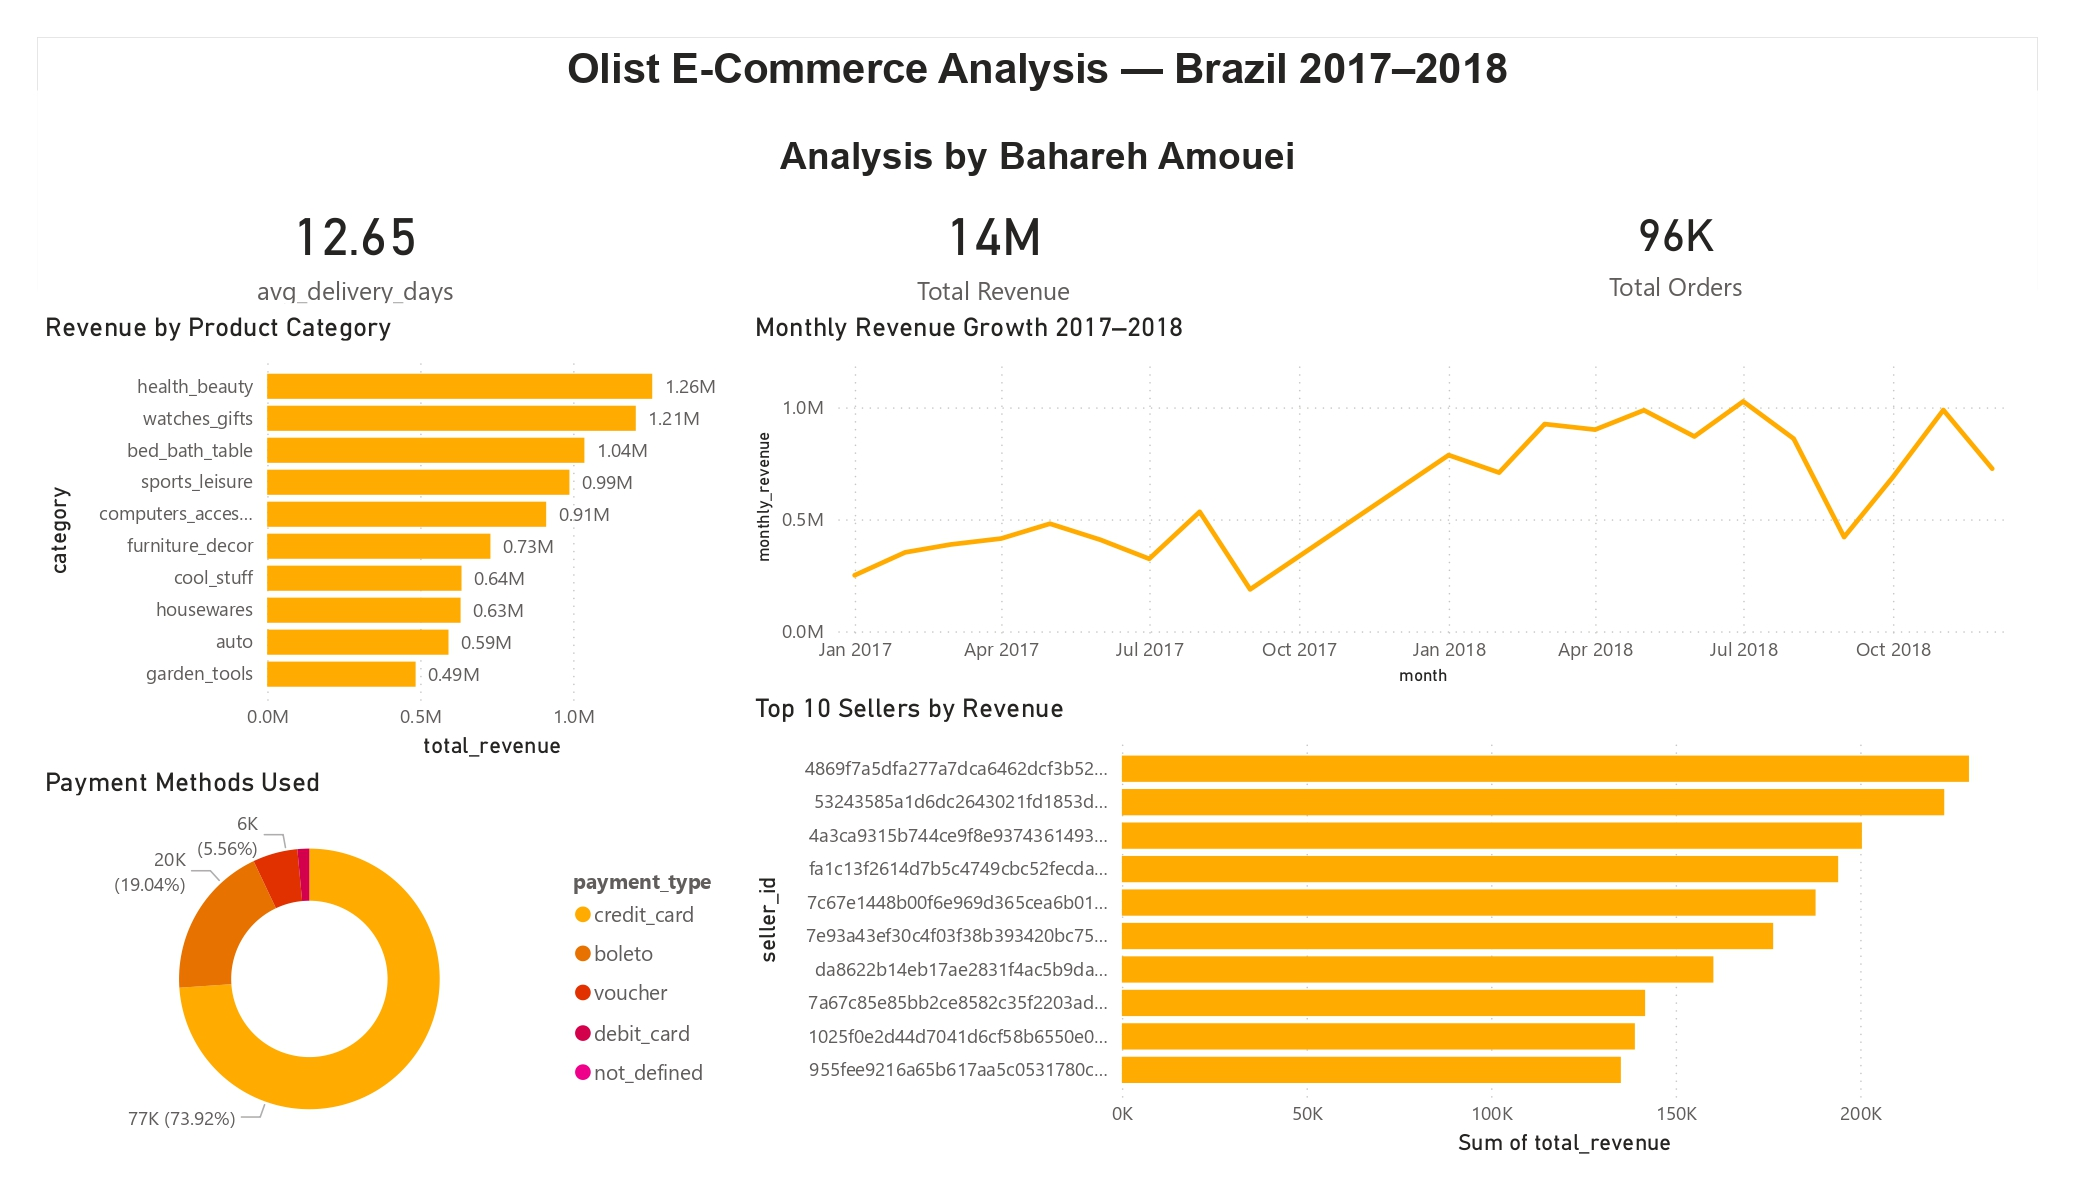

What the dashboard file says about the page in this screenshot:
{"tool":"powerbi","page":{"name":"Sales Overview","canvas":[1280,720],"ordinal":0},"visuals":[{"type":"clusteredBarChart","title":"Revenue by Product Category","fields":{"Category":["top_categories_by_revenue.category"],"Y":["Sum(top_categories_by_revenue.total_revenue)"]},"box":[0,174.7,454.4,291.1],"z":0},{"type":"lineChart","title":"Monthly Revenue Growth 2017–2018","fields":{"Y":["Avg(results_monthly_revenue_clean.monthly_revenue)"],"Category":["results_monthly_revenue_clean.month_year.Variation.Date Hierarchy.Year","results_monthly_revenue_clean.month_year.Variation.Date Hierarchy.Quarter","results_monthly_revenue_clean.month_year.Variation.Date Hierarchy.Month","results_monthly_revenue_clean.month_year.Variation.Date Hierarchy.Day"]},"box":[454.4,174.7,825.3,244.3],"z":1000},{"type":"card","fields":{"Values":["Sum(results_avg_delivery.avg_delivery_days)"]},"box":[0,95,406.7,80],"z":2000},{"type":"donutChart","title":"Payment Methods Used","fields":{"Category":["results_payment_types.payment_type"],"Y":["Sum(results_payment_types.total_transactions)"]},"box":[0,465.8,454.4,254.4],"z":3000},{"type":"card","fields":{"Values":["results_avg_delivery.Total Revenue"]},"box":[406.7,95,410,80],"z":4000},{"type":"textbox","box":[0,0,1280,56.7],"z":5000},{"type":"textbox","box":[0,56.7,1280,38.3],"z":6000},{"type":"clusteredBarChart","title":"Top 10 Sellers by Revenue","fields":{"Category":["results_top_sellers.seller_id"],"Y":["Sum(results_top_sellers.total_revenue)"]},"box":[454.4,419,825.3,301.3],"z":7000},{"type":"card","fields":{"Values":["results_avg_delivery.Total Orders"]},"box":[816.7,95,463.3,80],"z":8000}]}

Visuals, with their boxes on the page's 1280x720 design canvas (x1, y1, x2, y2). These are canvas units, not pixel positions in the 2075x1200 screenshot, which may show the page scaled, cropped or inside an application window:
"Revenue by Product Category" clusteredBarChart: box=[0, 175, 454, 466]
"Monthly Revenue Growth 2017–2018" lineChart: box=[454, 175, 1280, 419]
card - Sum(results_avg_delivery.avg_delivery_days): box=[0, 95, 407, 175]
"Payment Methods Used" donutChart: box=[0, 466, 454, 720]
card - results_avg_delivery.Total Revenue: box=[407, 95, 817, 175]
textbox: box=[0, 0, 1280, 57]
textbox: box=[0, 57, 1280, 95]
"Top 10 Sellers by Revenue" clusteredBarChart: box=[454, 419, 1280, 720]
card - results_avg_delivery.Total Orders: box=[817, 95, 1280, 175]
